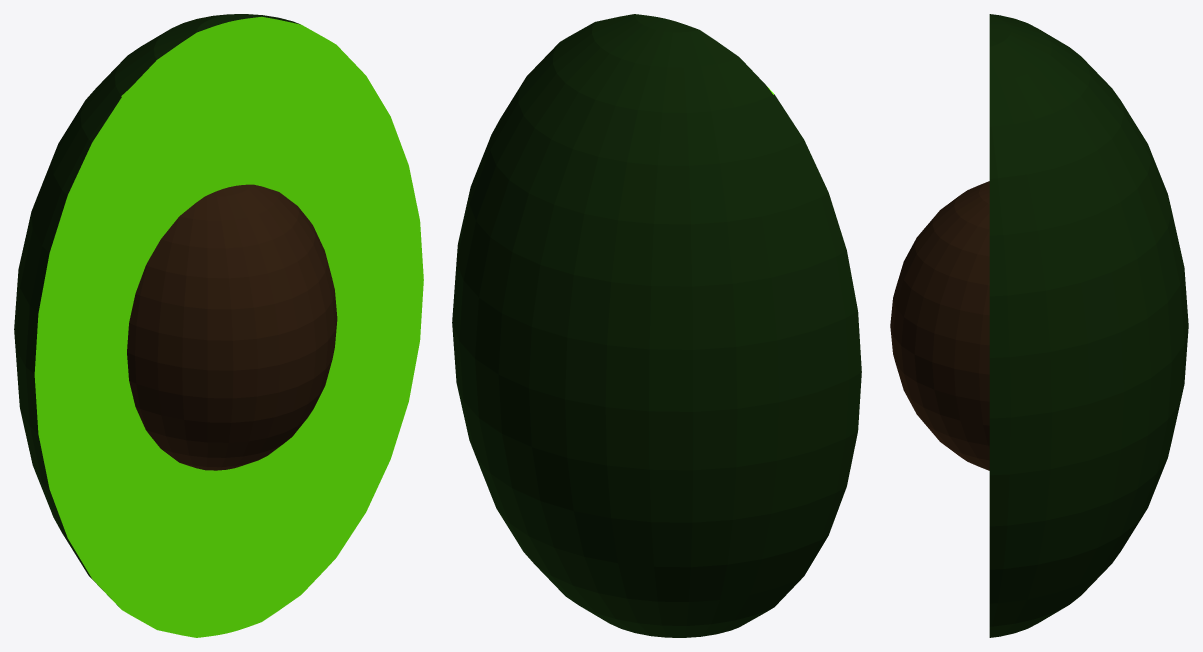
Rendered from aguacate.obj.
3 renders of one model, left to right at view 1: azimuth 30°, elevation 25°; view 2: azimuth 150°, elevation 25°; view 3: azimuth 270°, elevation 25°, orthographic. The views are drawn at different scales.
Visible parts, largest first — view 1: Sphere; view 2: Sphere; view 3: Sphere.
Part boxes in pixels (x1=…): Sphere: x1=14, y1=14, x2=423, y2=637; Sphere: x1=452, y1=14, x2=861, y2=637; Sphere: x1=890, y1=14, x2=1188, y2=637.
Size of the model in its own units: 1.98 by 2.97 by 1.35.
